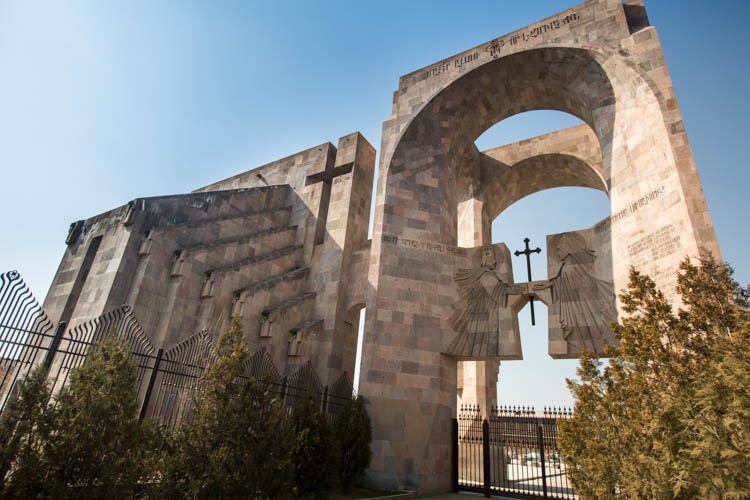Church: (301, 132, 353, 242), (492, 233, 553, 325)
